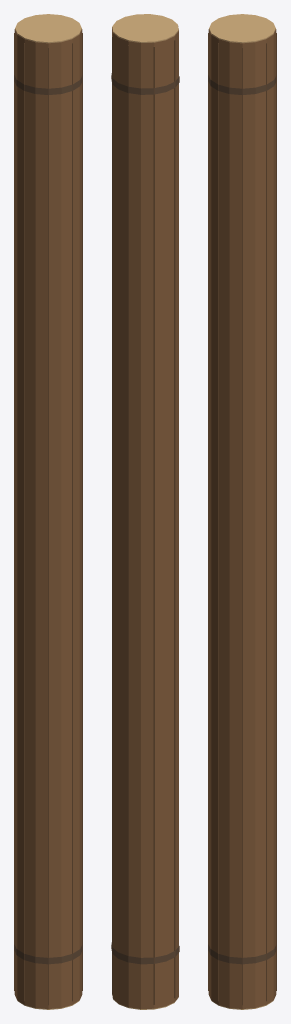
Rendered from terrain-log-926945-76.glb.
3 views of the same model, side by side, from view 1: azimuth 90°, elevation 25°; view 2: azimuth 150°, elevation 25°; view 3: azimuth 270°, elevation 25° (orthographic).
Parts seen in each view (by area): view 1: terrain-log-926945-76; view 2: terrain-log-926945-76; view 3: terrain-log-926945-76.
Part boxes in pixels (x1,y1,x2,y2): terrain-log-926945-76: (14, 14, 82, 1009); terrain-log-926945-76: (111, 14, 179, 1009); terrain-log-926945-76: (208, 14, 276, 1009).
Bounding box in the file's own units: 0.7752 × 12.03 × 0.7752.
